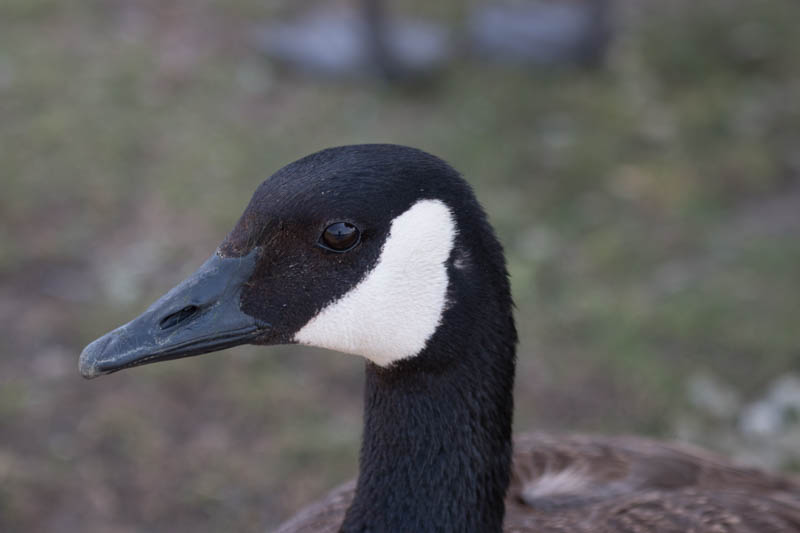goose-head: (76, 143, 516, 381)
